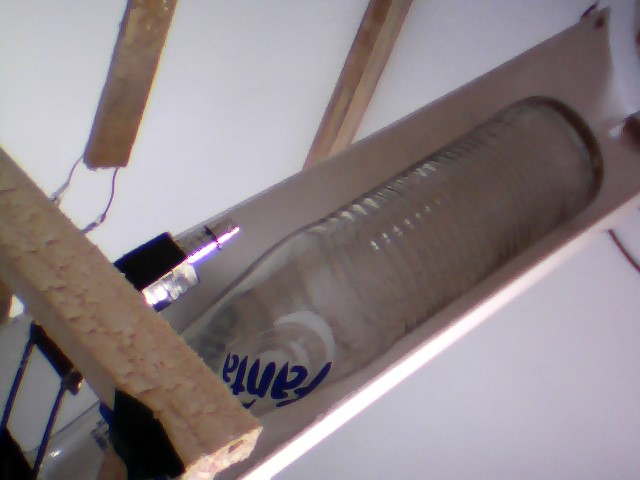vidrio: (179, 91, 606, 419)
